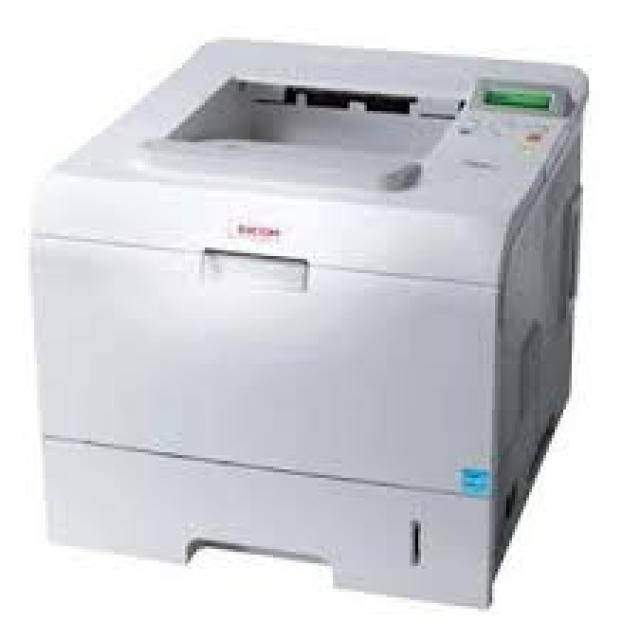printer: (26, 34, 588, 609)
